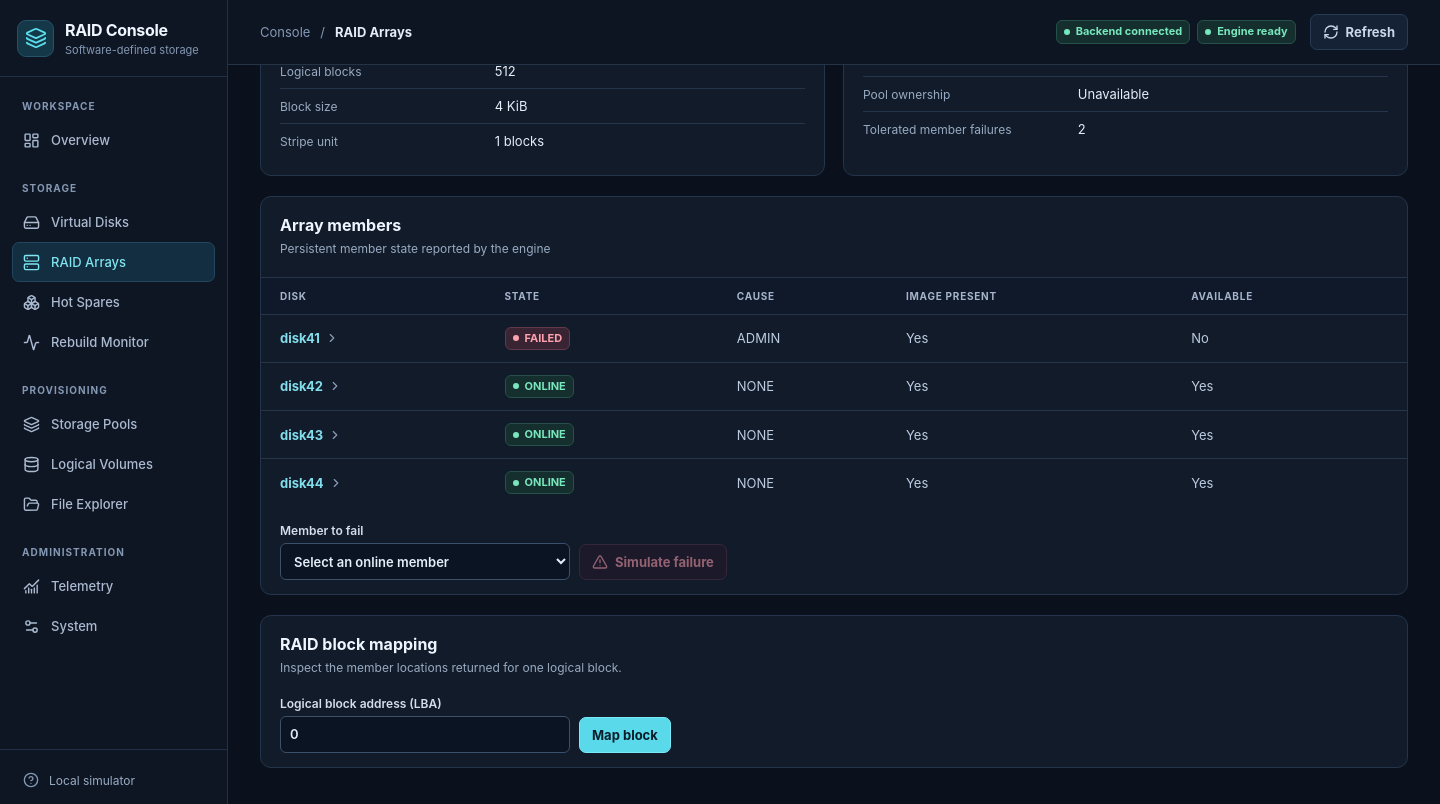
Test: disk and RAID safety › shows member inspection and real parity roles, and waits for keyboard confirmation
Later steps or results of the test are not shown.
(page scrolled)
Expected: the text "FAILED" is shown, left=505, top=326, right=570, bottom=350
Replace the text in the number field labelled "Logical block address (LBA)" with "9" at (425, 734), box left=280, top=716, right=570, bottom=753
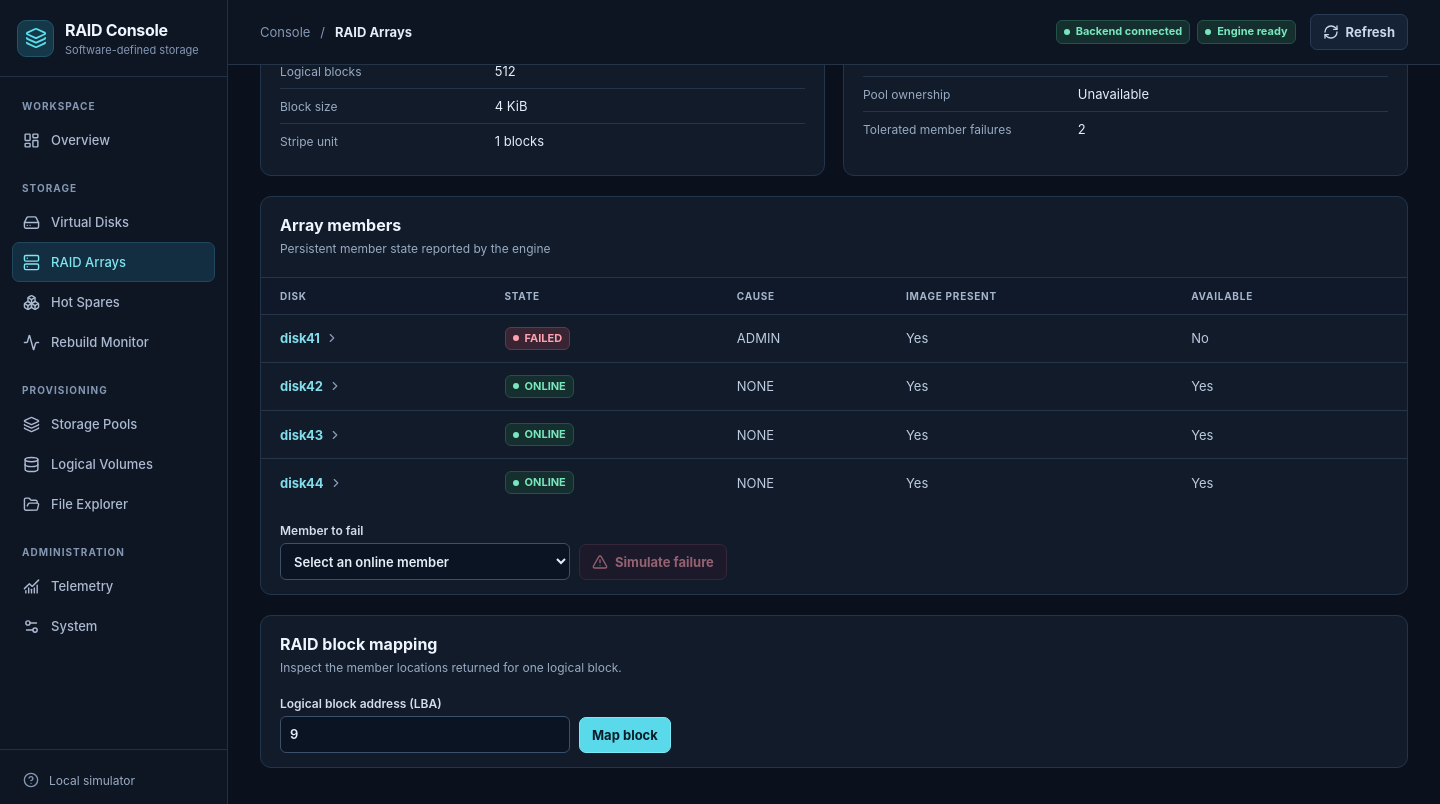
Click the button "Map block" at (625, 735), box left=579, top=717, right=671, bottom=753
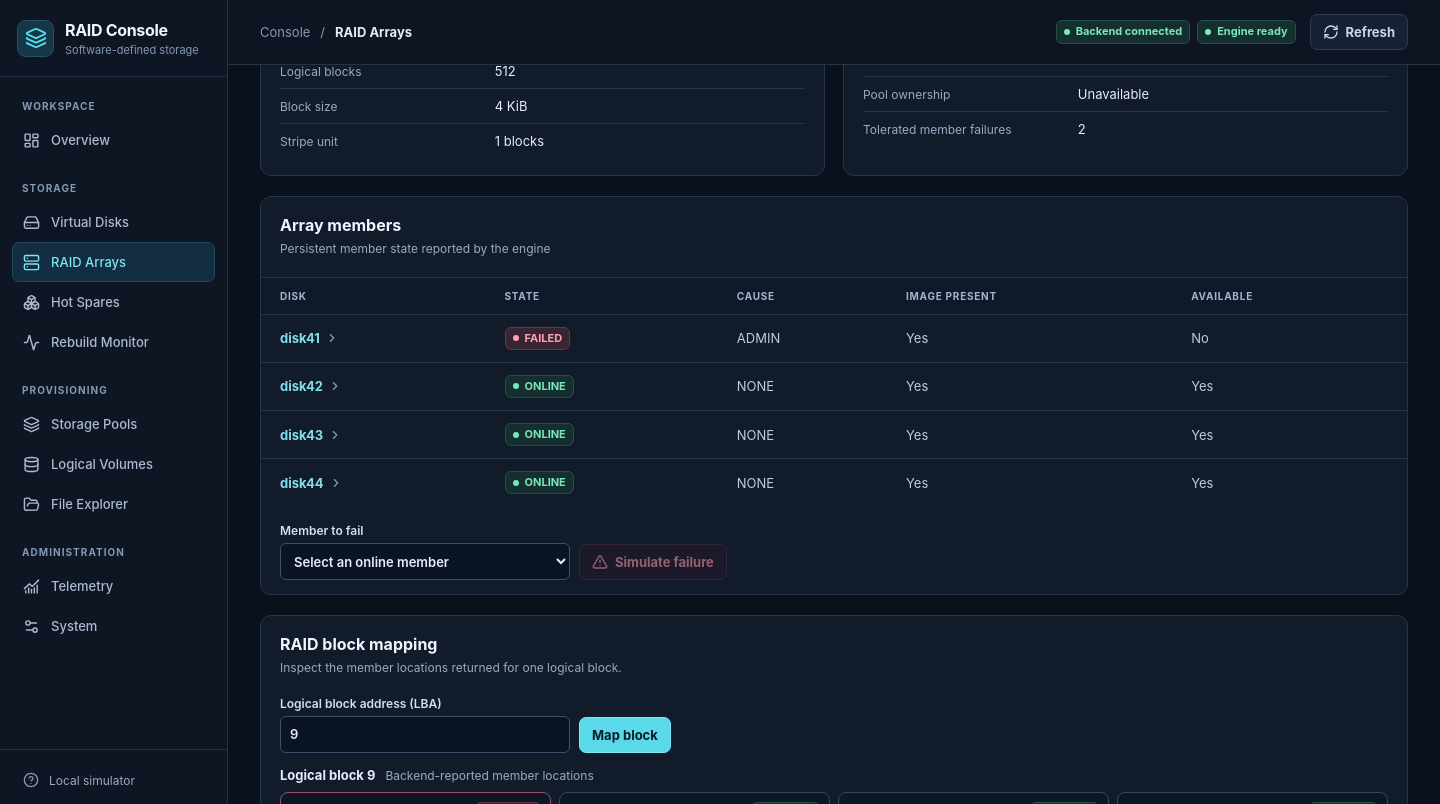
Expected: the text "Logical block 9" is shown, left=280, top=767, right=375, bottom=783
